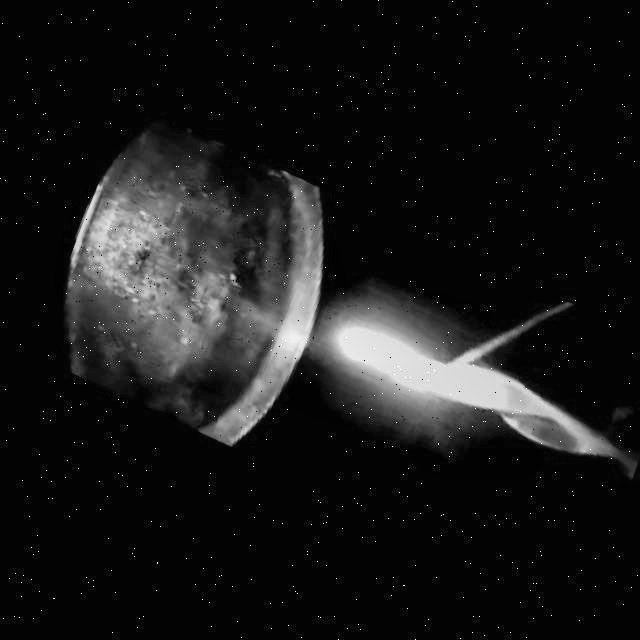Fire: (327, 294, 585, 460)
